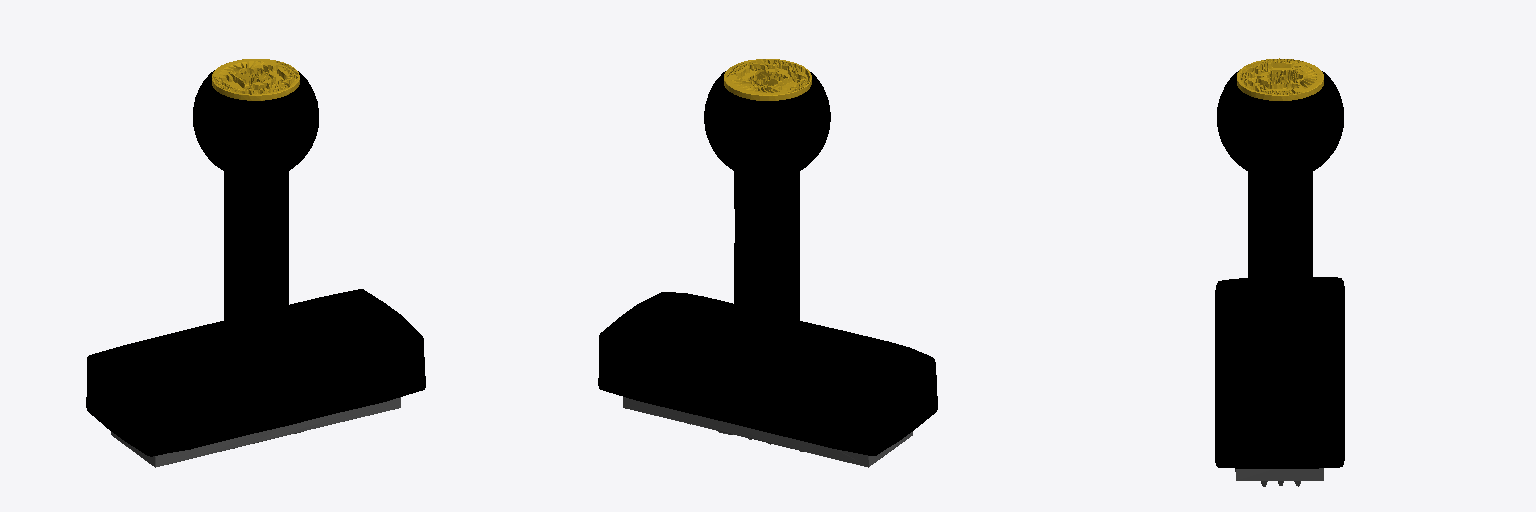
3 views of the same model, side by side, from view 1: azimuth 30°, elevation 25°; view 2: azimuth 150°, elevation 25°; view 3: azimuth 270°, elevation 25° (orthographic).
Visible parts, largest first — view 1: Body_Body, Insignia_Insignia, Approve_Approve; view 2: Body_Body, Insignia_Insignia, Approve_Approve; view 3: Body_Body, Insignia_Insignia, Approve_Approve.
Boxes of the visible parts, box(x1,y1,x2,y2) form: Body_Body: box(86, 70, 425, 456); Insignia_Insignia: box(212, 59, 299, 100); Approve_Approve: box(111, 397, 400, 467); Body_Body: box(598, 71, 937, 455); Insignia_Insignia: box(724, 59, 811, 100); Approve_Approve: box(623, 397, 912, 467); Body_Body: box(1215, 71, 1344, 468); Insignia_Insignia: box(1237, 58, 1323, 100); Approve_Approve: box(1235, 468, 1323, 486).
Size of the model in its own units: 50.96 by 62.42 by 20.48.
Materials: 3 (3 with a texture image).